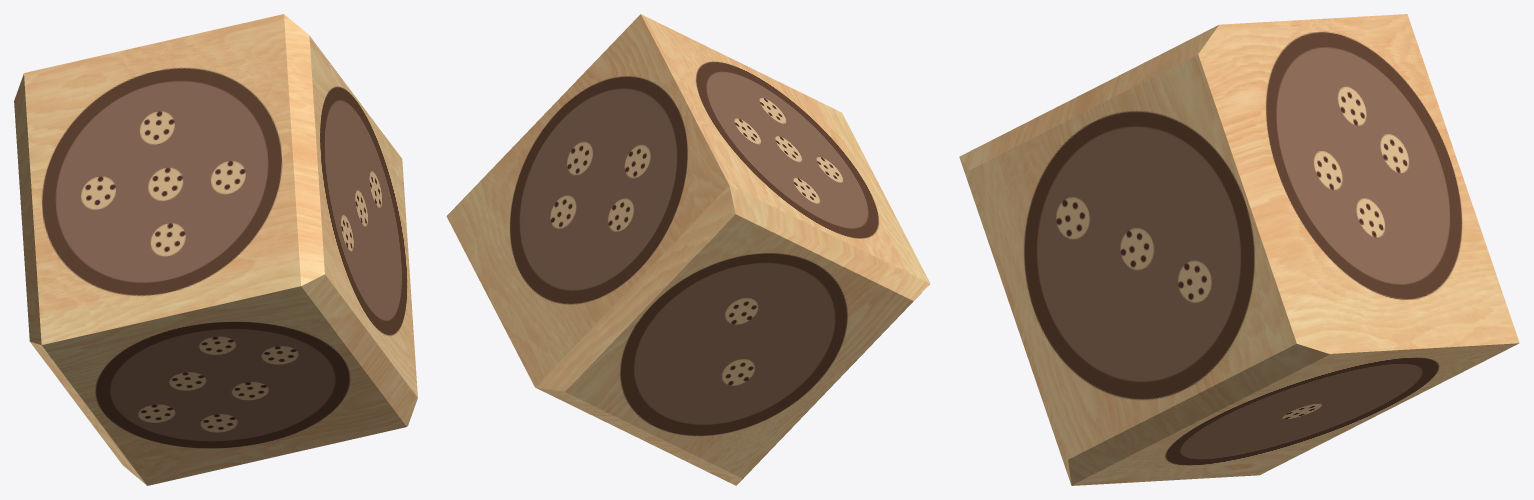
Rendered from dadu.fbx.
3 views of the same model, side by side, from view 1: azimuth 30°, elevation 25°; view 2: azimuth 150°, elevation 25°; view 3: azimuth 270°, elevation 25° (orthographic). The views are drawn at different scales.
Parts seen in each view (by area): view 1: Cube; view 2: Cube; view 3: Cube.
Boxes of the visible parts, bbox=[...] form: Cube: bbox=[14, 14, 417, 485]; Cube: bbox=[446, 14, 930, 485]; Cube: bbox=[959, 14, 1519, 485].
Bounding box in the file's own units: 317 × 321 × 316.
